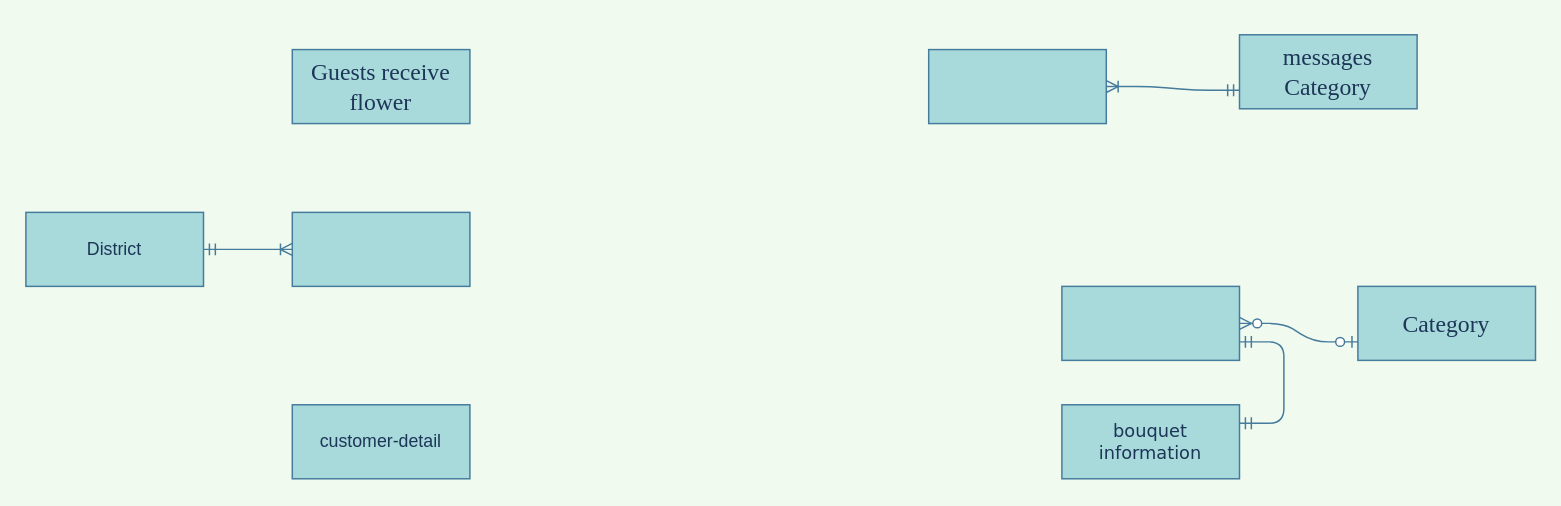
The diagram is 1561 pixels wide and 506 high, and some of its shapes have lost their labels. Here are the shapes that lost their labels. From the top down, the centre of each, then its label:
At point 1016,86: "messages".
At point 380,248: "CiTy".
At point 1150,322: "Product".
